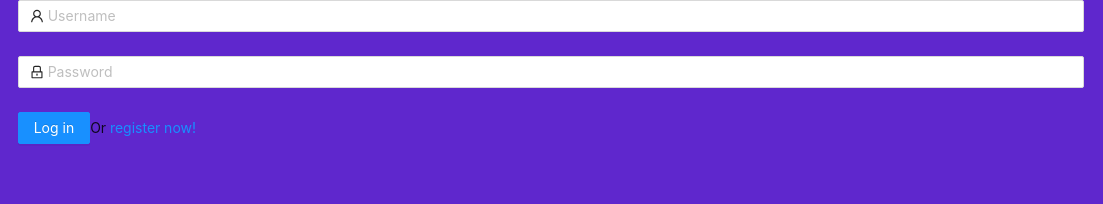
it: Login View › should show message that user password is invalid
The image size is (1103, 204).
Type "validUsername" into the field with placeholder "Username" at {"x": 560, "y": 16}, box [48,5,1072,27]
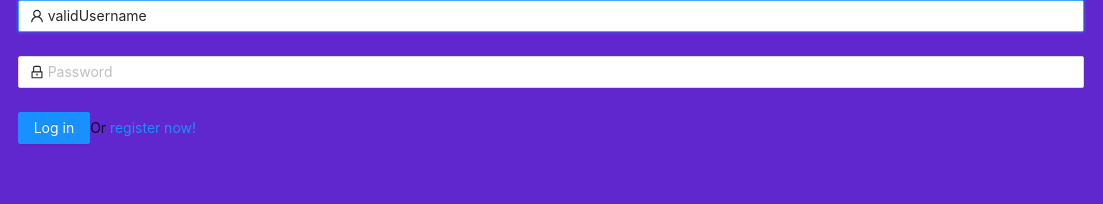
Type "invalidPassword" into the password field with placeholder "Password" at {"x": 560, "y": 72}, box [48,61,1072,83]
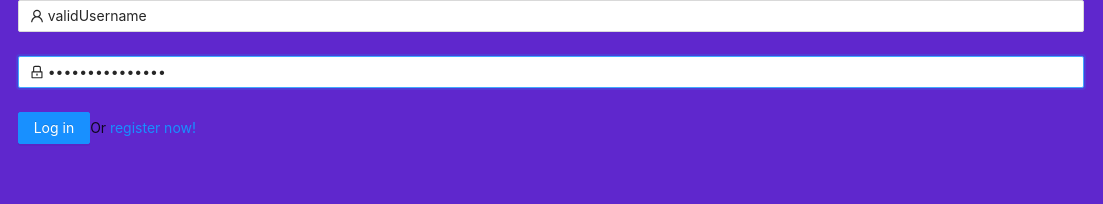
Click the button at {"x": 54, "y": 128}, box [18,112,90,144]
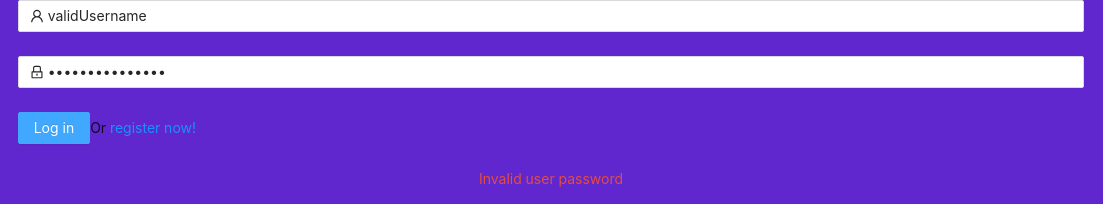
Now the text "Invalid user password" is shown, box [479,170,623,187]
